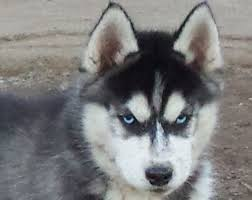husky: (79, 5, 235, 200)
